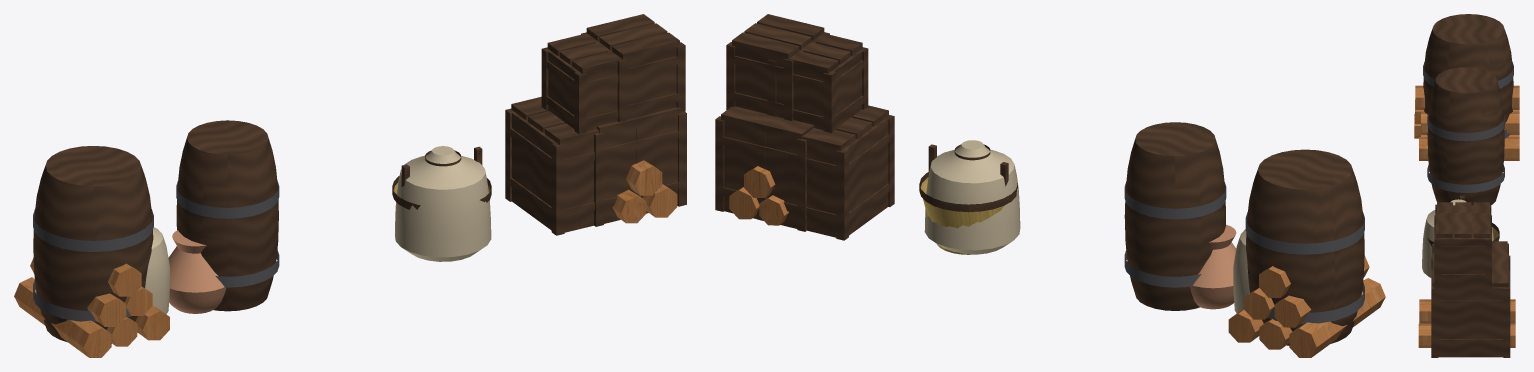
File: misc_market_props.glb
3 renders of one model, left to right at view 1: azimuth 30°, elevation 25°; view 2: azimuth 150°, elevation 25°; view 3: azimuth 270°, elevation 25°, orthographic. The views are drawn at different scales.
Visible parts, largest first — view 1: misc_market_props_0; view 2: misc_market_props_0; view 3: misc_market_props_0.
Part boxes in pixels (left/top/right/bottom): misc_market_props_0: left=14, top=14, right=686, bottom=357; misc_market_props_0: left=715, top=14, right=1385, bottom=357; misc_market_props_0: left=1414, top=14, right=1519, bottom=357.
Size of the model in its own units: 4.23 by 1.06 by 0.8222.
Materials: 6 (3 with a texture image).
